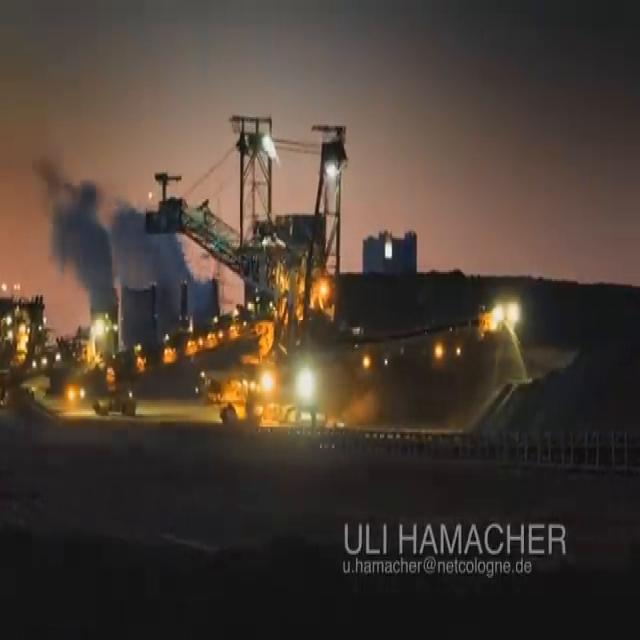smoke: (111, 201, 211, 313), (49, 176, 114, 315)
